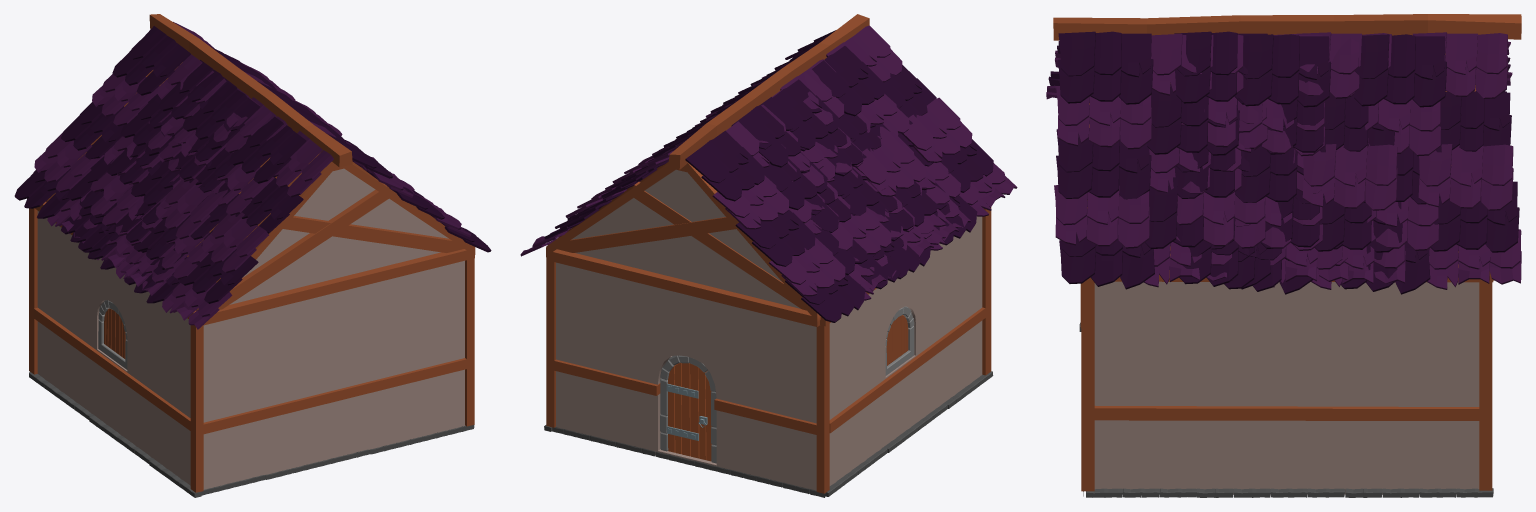
The model's file is Rumah.fix.fbx.
3 renders of one model, left to right at view 1: azimuth 30°, elevation 25°; view 2: azimuth 150°, elevation 25°; view 3: azimuth 270°, elevation 25°, orthographic. The views are drawn at different scales.
Parts seen in each view (by area): view 1: BadanRumah, Genteng.004, Genteng.003, Cube.017, Batu, Genteng.002, Genteng.001, Jendela; view 2: BadanRumah, Genteng.003, Genteng.004, Cube.017, Pintu.002, Batu, Genteng.001, Pintu, Genteng.002, Jendela; view 3: BadanRumah, Genteng.002, Genteng.001, Cube.017, Batu.
Boxes of the visible parts, left/top/right/bottom form: BadanRumah: left=37, top=62, right=473, bottom=489; Genteng.004: left=61, top=60, right=333, bottom=329; Genteng.003: left=14, top=26, right=287, bottom=295; Cube.017: left=29, top=14, right=475, bottom=492; Batu: left=29, top=372, right=474, bottom=497; Genteng.002: left=257, top=81, right=491, bottom=252; Genteng.001: left=173, top=22, right=414, bottom=193; Jendela: left=98, top=300, right=127, bottom=369; BadanRumah: left=546, top=160, right=982, bottom=490; Genteng.003: left=685, top=59, right=970, bottom=322; Genteng.004: left=731, top=25, right=1017, bottom=289; Cube.017: left=546, top=14, right=991, bottom=493; Pintu.002: left=666, top=362, right=711, bottom=461; Batu: left=544, top=371, right=993, bottom=497; Genteng.001: left=520, top=66, right=784, bottom=256; Pintu: left=660, top=355, right=716, bottom=463; Genteng.002: left=567, top=30, right=835, bottom=220; Jendela: left=885, top=306, right=914, bottom=375; BadanRumah: left=1087, top=54, right=1479, bottom=494; Genteng.002: left=1054, top=31, right=1405, bottom=294; Genteng.001: left=1174, top=31, right=1521, bottom=294; Cube.017: left=1053, top=14, right=1521, bottom=491; Batu: left=1079, top=322, right=1493, bottom=497.
Size of the model in its own units: 1075 by 1062 by 1155.
